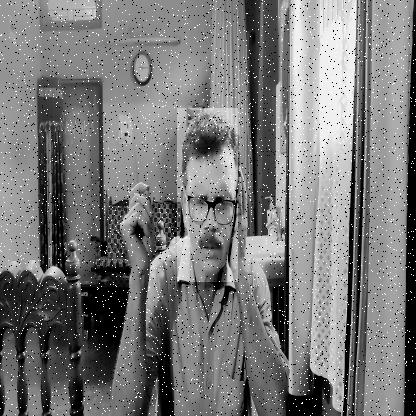Normal: (177, 108, 238, 282)
